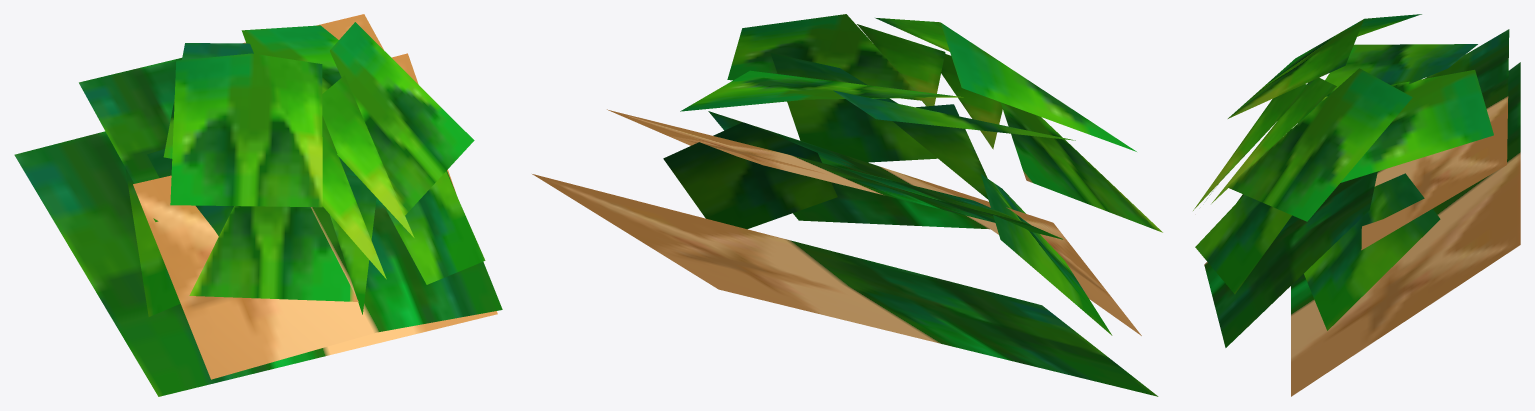
Rendered from fg_bushE_2.dae.
The picture shows the model from 3 angles, left to right: view 1: azimuth 30°, elevation 25°; view 2: azimuth 150°, elevation 25°; view 3: azimuth 270°, elevation 25°; orthographic projection. The views are drawn at different scales.
Parts seen in each view (by area): view 1: fg_bushE_2; view 2: fg_bushE_2; view 3: fg_bushE_2.
Part boxes in pixels (x1,y1,x2,y2): fg_bushE_2: [14, 14, 502, 396]; fg_bushE_2: [532, 14, 1162, 396]; fg_bushE_2: [1193, 14, 1520, 396].
Size of the model in its own units: 50.84 by 35.08 by 37.48.
1 material, 1 textured.
